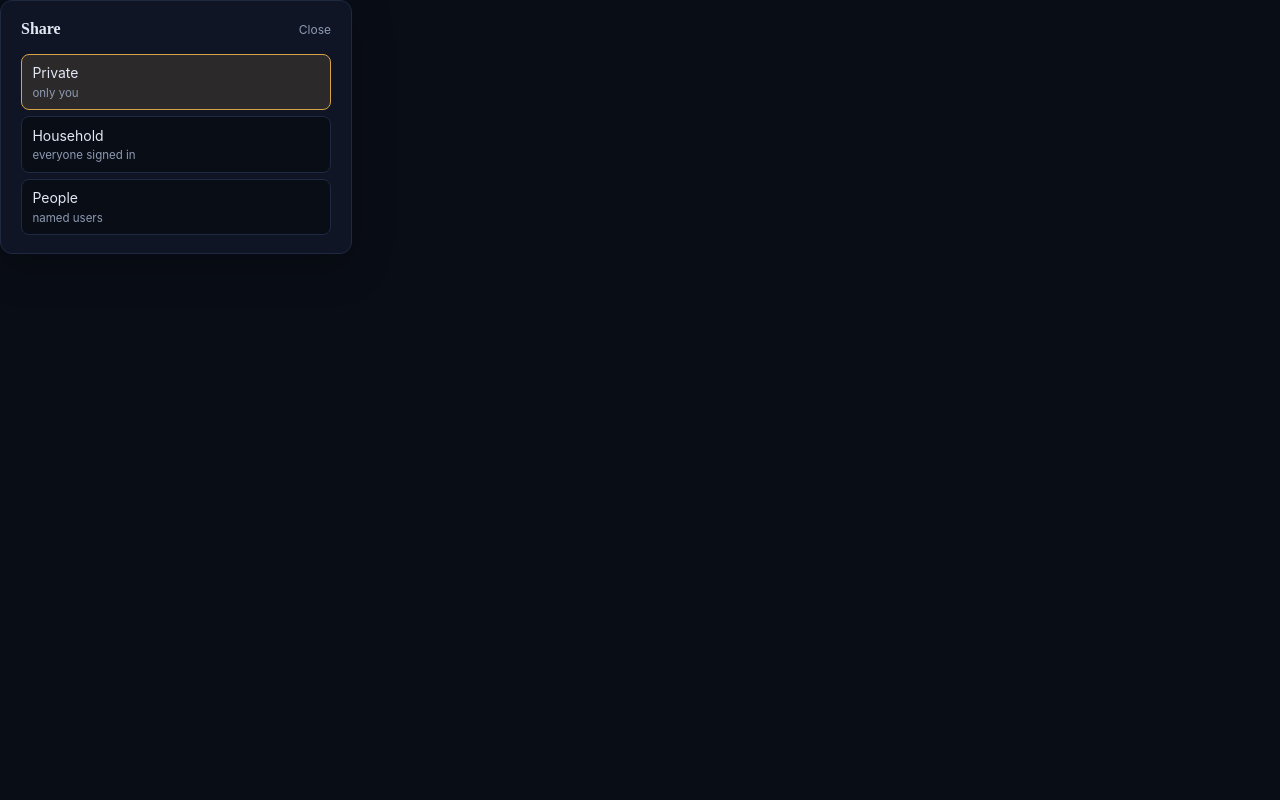
Test case: ShareMenu › a people share with no users is refused client-side (no patch)
Click the button "People named users" at [55, 198], box [21,179,331,235]
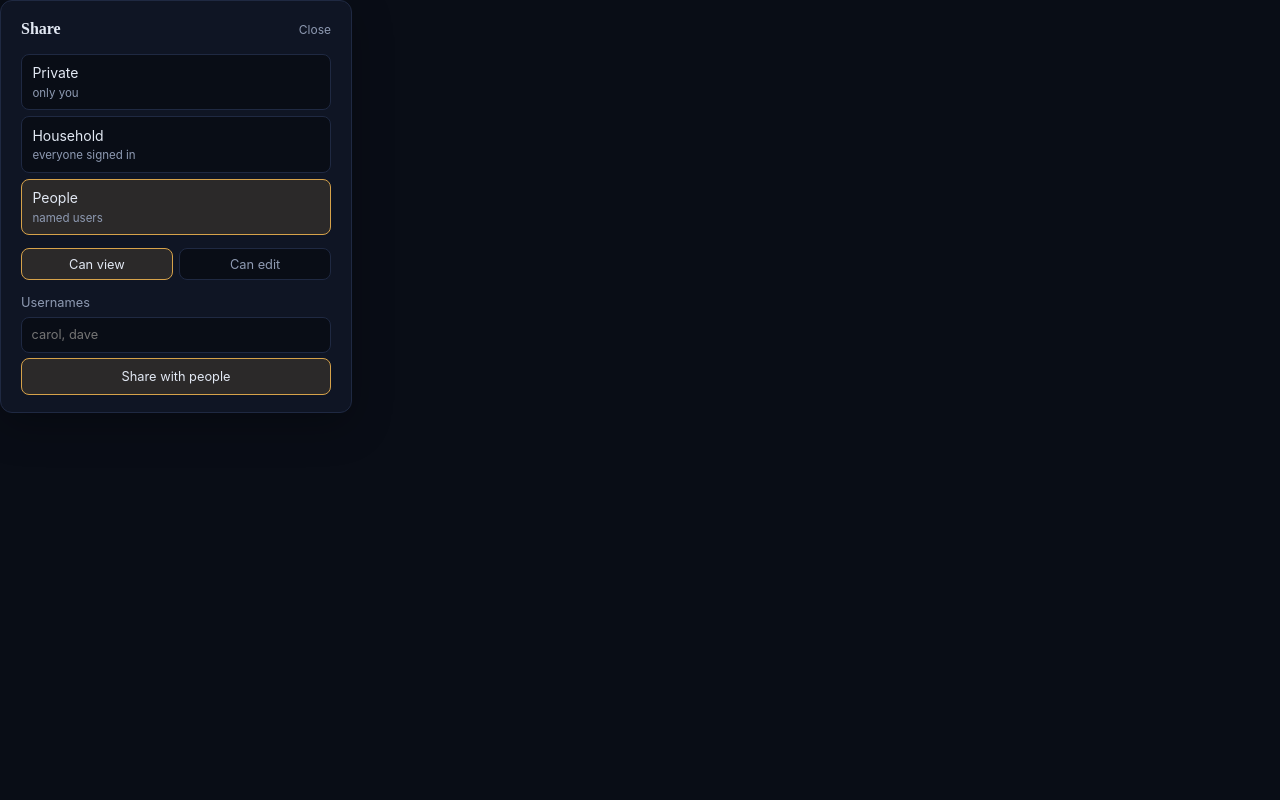
Click the button "Share with people" at [176, 376], box [21,358,331,395]
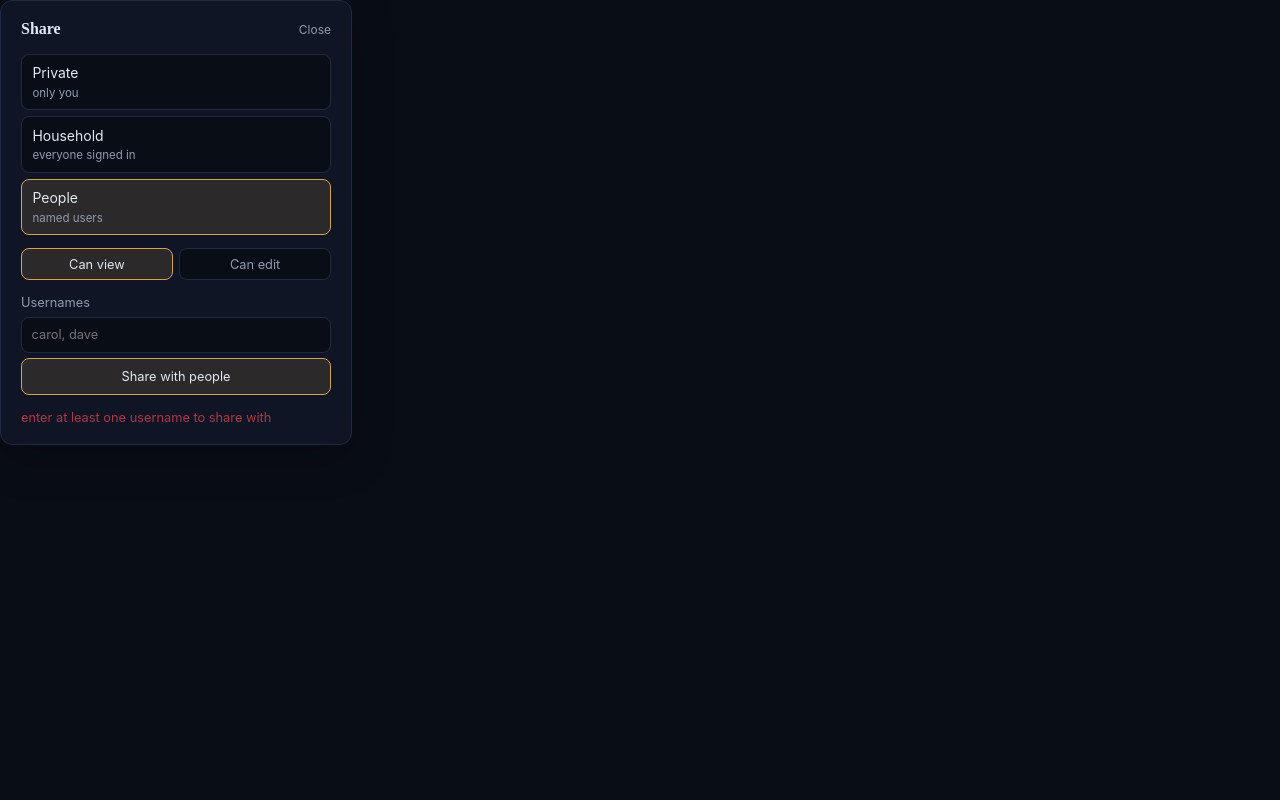
Now the text "enter at least one username" is shown, box [21,410,271,425]
